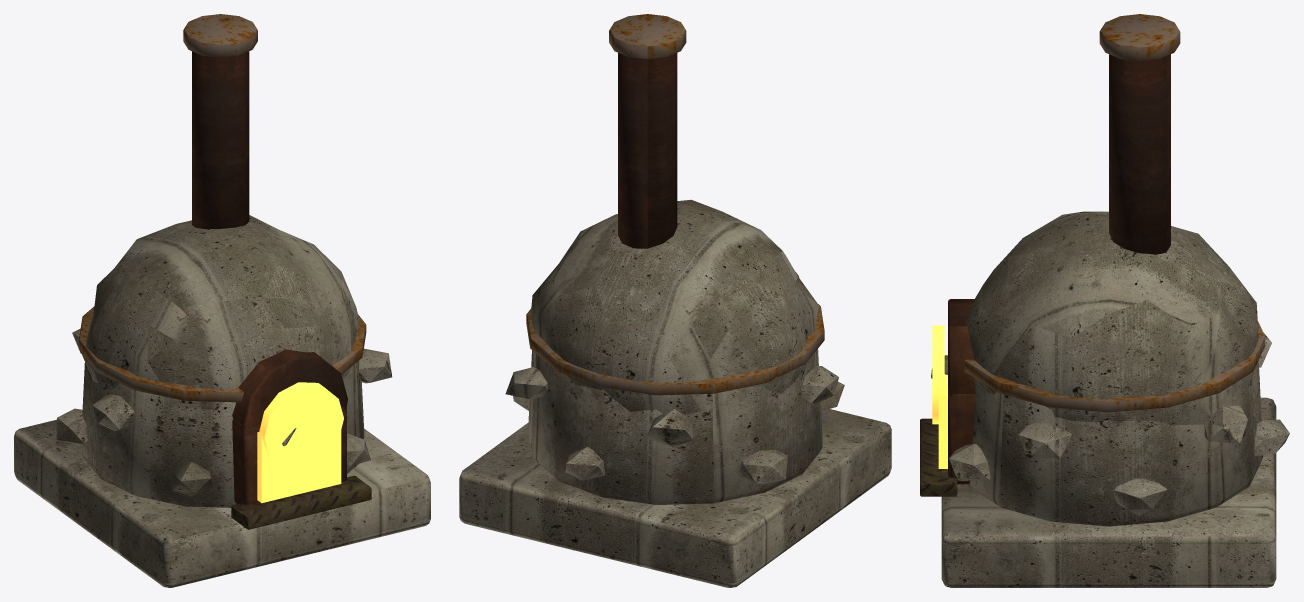
The model's file is deploy_furnace.glb.
3 views of the same model, side by side, from view 1: azimuth 30°, elevation 25°; view 2: azimuth 150°, elevation 25°; view 3: azimuth 270°, elevation 25° (orthographic). The views are drawn at different scales.
Visible parts, largest first — view 1: blob, box, cyl, cyl.004, cyl.003, cyl.002, cyl.001, box.003, box.002, cyl.005, box.001, blob.006 (+4 smaller); view 2: blob, box, cyl, cyl.004, cyl.001, cyl.005, blob.005, blob.004, blob.006, blob.002, blob.003; view 3: blob, box, cyl, cyl.004, cyl.001, cyl.005, cyl.002, box.003, box.001, blob.010, blob.001, blob.002 (+4 smaller).
Part boxes in pixels (box(x1,y1,x2,y2)): blob: box(82, 215, 359, 410); box: box(14, 419, 430, 587); cyl: box(80, 360, 364, 507); cyl.004: box(192, 51, 249, 229); cyl.003: box(259, 382, 343, 469); cyl.002: box(232, 349, 347, 449); cyl.001: box(78, 306, 366, 402); box.003: box(231, 475, 371, 529); box.002: box(257, 431, 341, 503); cyl.005: box(183, 14, 257, 57); box.001: box(232, 405, 346, 504); blob.006: box(92, 394, 135, 430); blob: box(531, 199, 818, 414); box: box(459, 409, 891, 587); cyl: box(528, 349, 822, 504); cyl.004: box(618, 53, 677, 248); cyl.001: box(526, 304, 824, 395); cyl.005: box(609, 14, 686, 59); blob.005: box(740, 449, 787, 484); blob.004: box(646, 409, 693, 447); blob.006: box(802, 366, 838, 403); blob.002: box(505, 367, 547, 398); blob.003: box(565, 447, 604, 480); blob: box(965, 211, 1258, 425); box: box(941, 397, 1276, 587); cyl: box(967, 360, 1263, 526); cyl.004: box(1109, 54, 1170, 254); cyl.001: box(964, 321, 1265, 412); cyl.005: box(1099, 14, 1180, 60); cyl.002: box(948, 299, 975, 399); box.003: box(920, 418, 957, 496); box.001: box(948, 394, 975, 484); blob.010: box(1018, 423, 1071, 459); blob.001: box(1113, 478, 1167, 515); blob.002: box(1204, 405, 1247, 443).
Bounding box in the file's own units: 1.14 × 1.77 × 1.19.
Materials: 5 (4 with a texture image).
